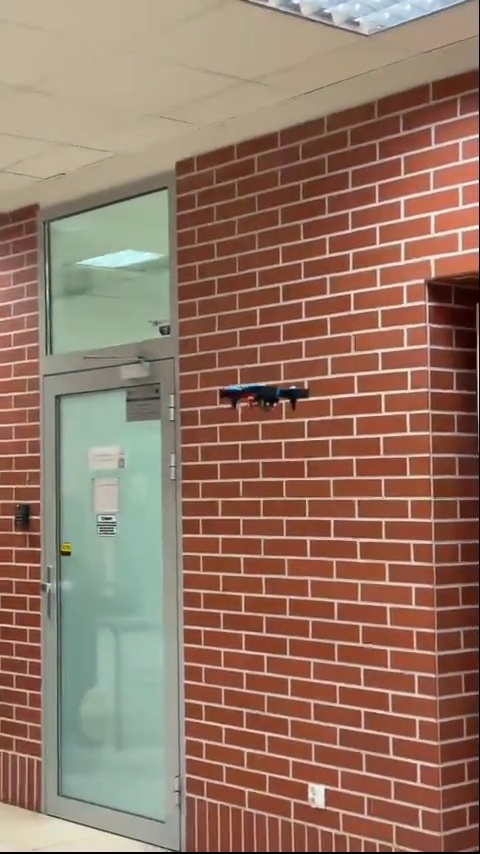drone: (219, 378, 308, 412)
